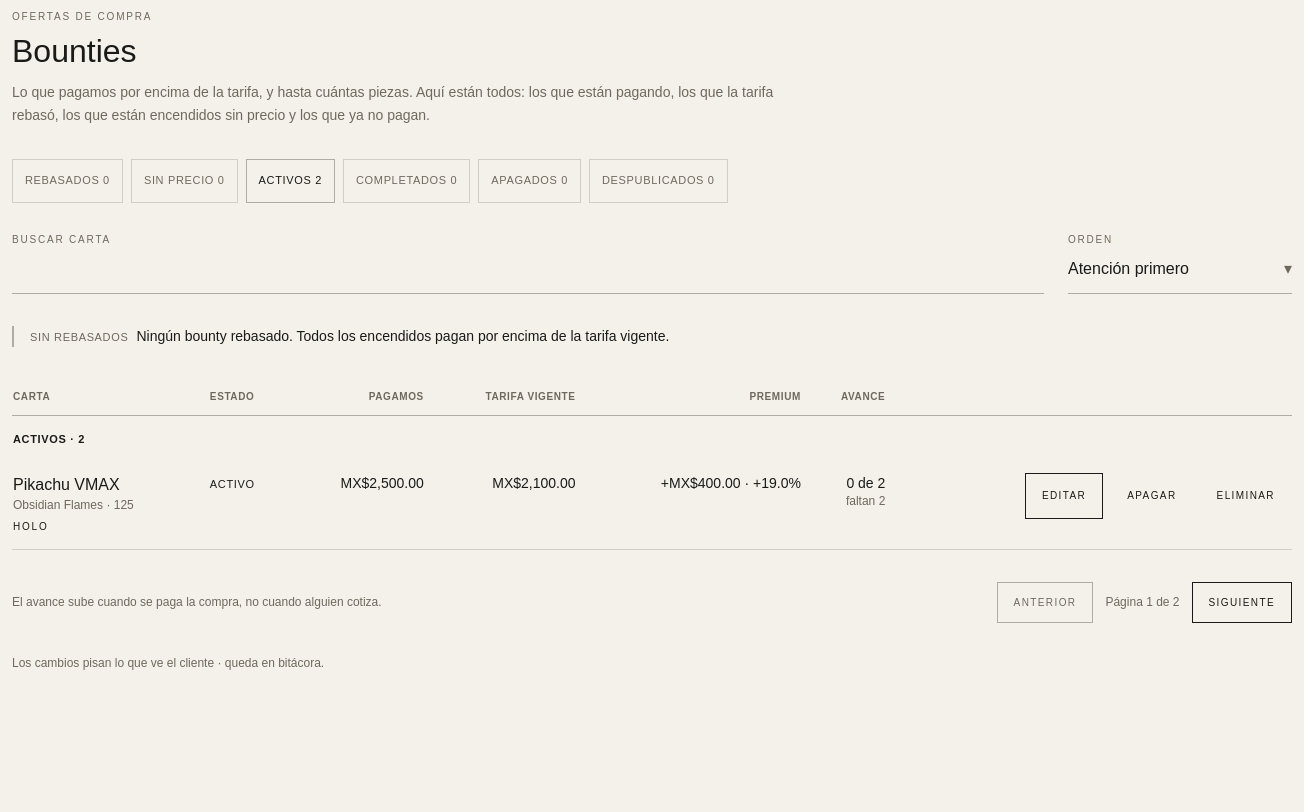
Test: ⭐⭐ caso 19 — con un filtro de identidad puesto, la pantalla NO afirma sobre «todos» › ⭐ CONTROL NEGATIVO 4: la PAGINACIÓN no es filtro de identidad ⇒ el cero se enuncia en la página 2
Expected: the text "Ningún bounty rebasado. Todos los encendidos pagan por encima de la tarifa vigente." is shown, [136, 328, 669, 344]
Click the button "Siguiente" at (1242, 602), box [1192, 582, 1292, 623]
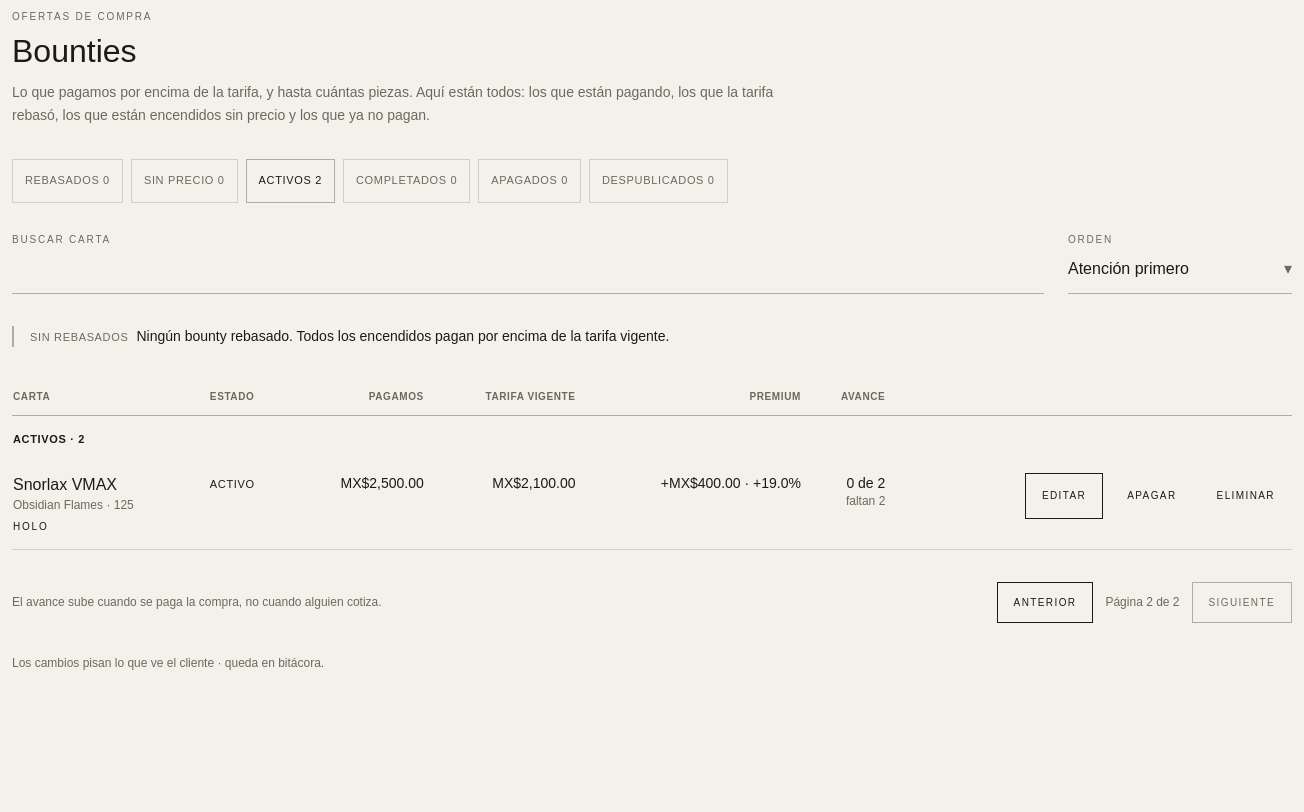
Expected: the text "Ningún bounty rebasado. Todos los encendidos pagan por encima de la tarifa vigente." is shown, [136, 328, 669, 344]
Expected: the link "Snorlax VMAX" is shown, [13, 476, 117, 493]
